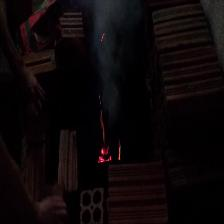fire: (99, 142, 122, 164)
smoke: (98, 0, 121, 122)
